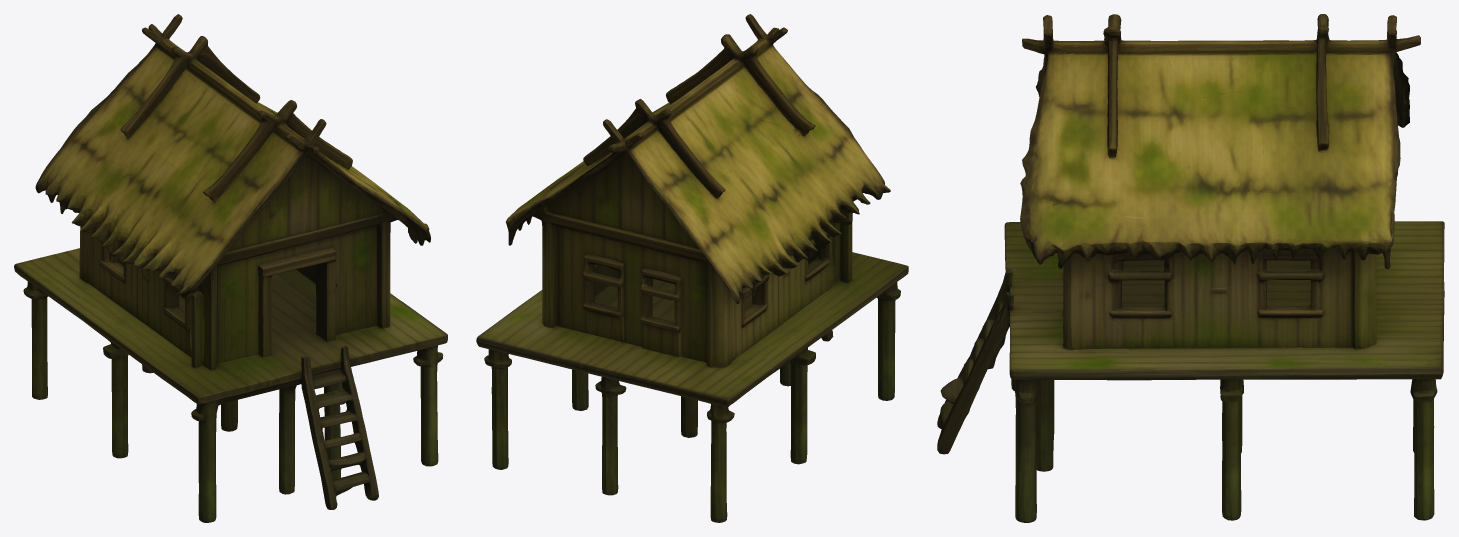
File: houseL.fbx
The picture shows the model from 3 angles, left to right: view 1: azimuth 30°, elevation 25°; view 2: azimuth 150°, elevation 25°; view 3: azimuth 270°, elevation 25°; orthographic projection. The views are drawn at different scales.
Visible parts, largest first — view 1: geometry_0; view 2: geometry_0; view 3: geometry_0.
Boxes of the visible parts, left/top/right/bottom form: geometry_0: left=14, top=14, right=447, bottom=522; geometry_0: left=476, top=14, right=908, bottom=522; geometry_0: left=937, top=14, right=1444, bottom=522.
Bounding box in the file's own units: 0.6977 × 0.9399 × 0.9939.
1 material, 1 textured.
